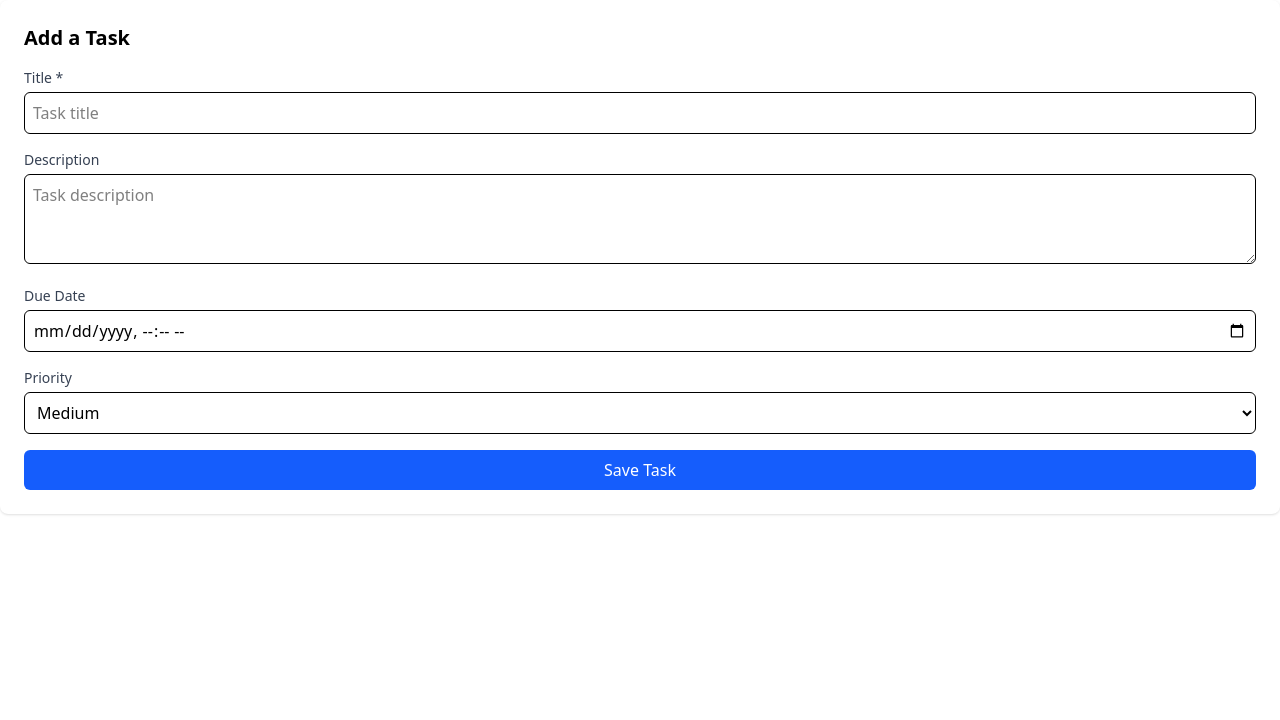
AddTaskForm › displays error message when submission fails
# Fill and submit form
Type "Test Task" into the field labelled "Title *".
click(640, 113); type("Test Task")  # box [24,92,1256,134]
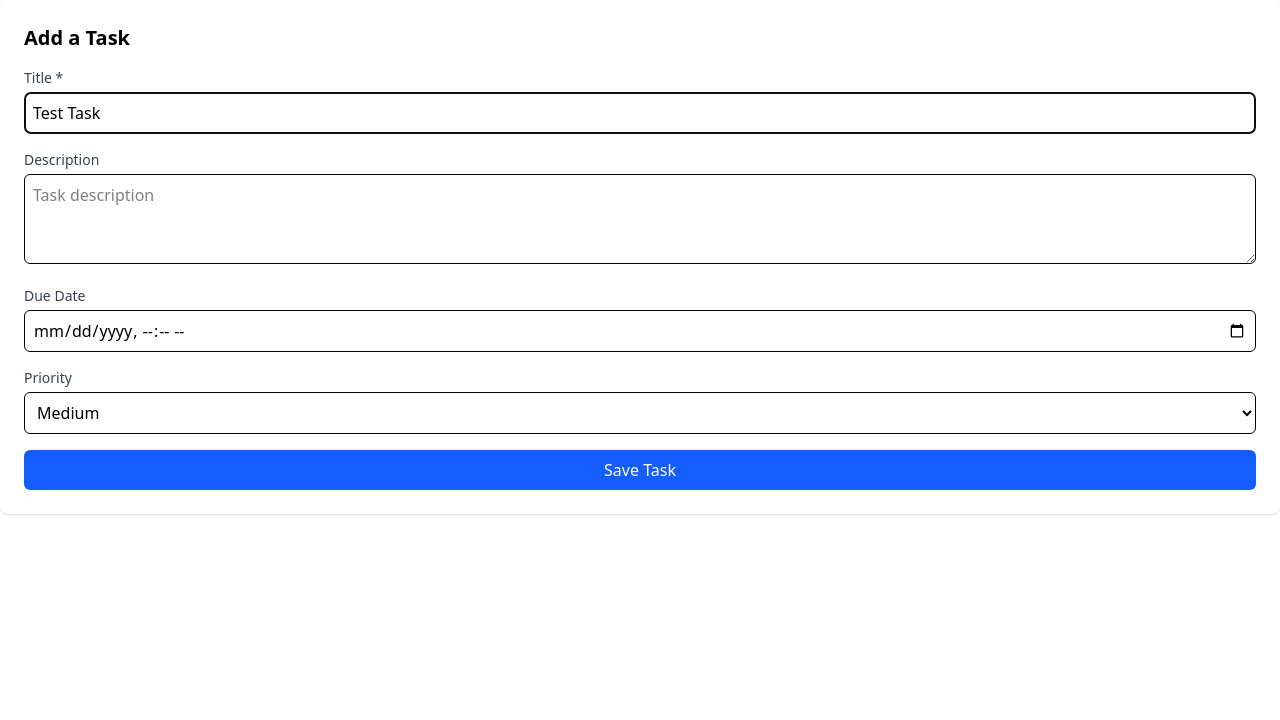
Click the button "Save Task".
click(640, 470)  # box [24,450,1256,490]
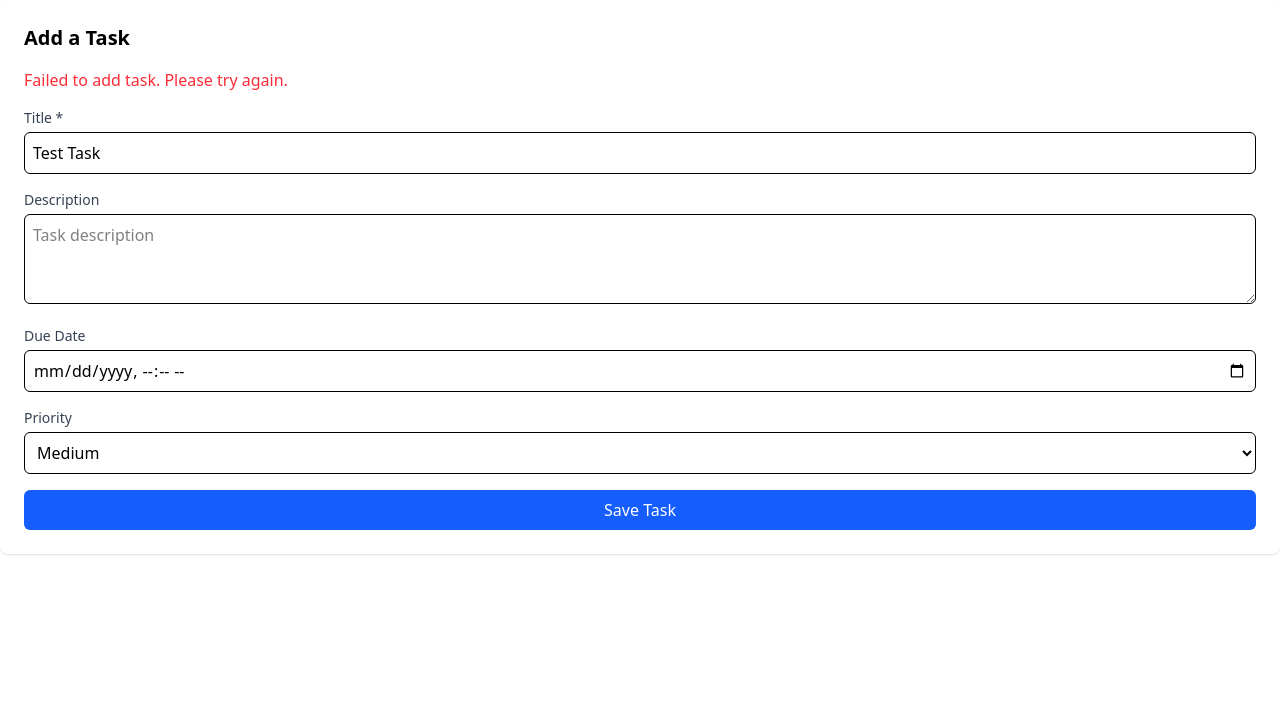
Expected: the text "Failed to add task. Please try again." is shown, [24,69,288,91]
